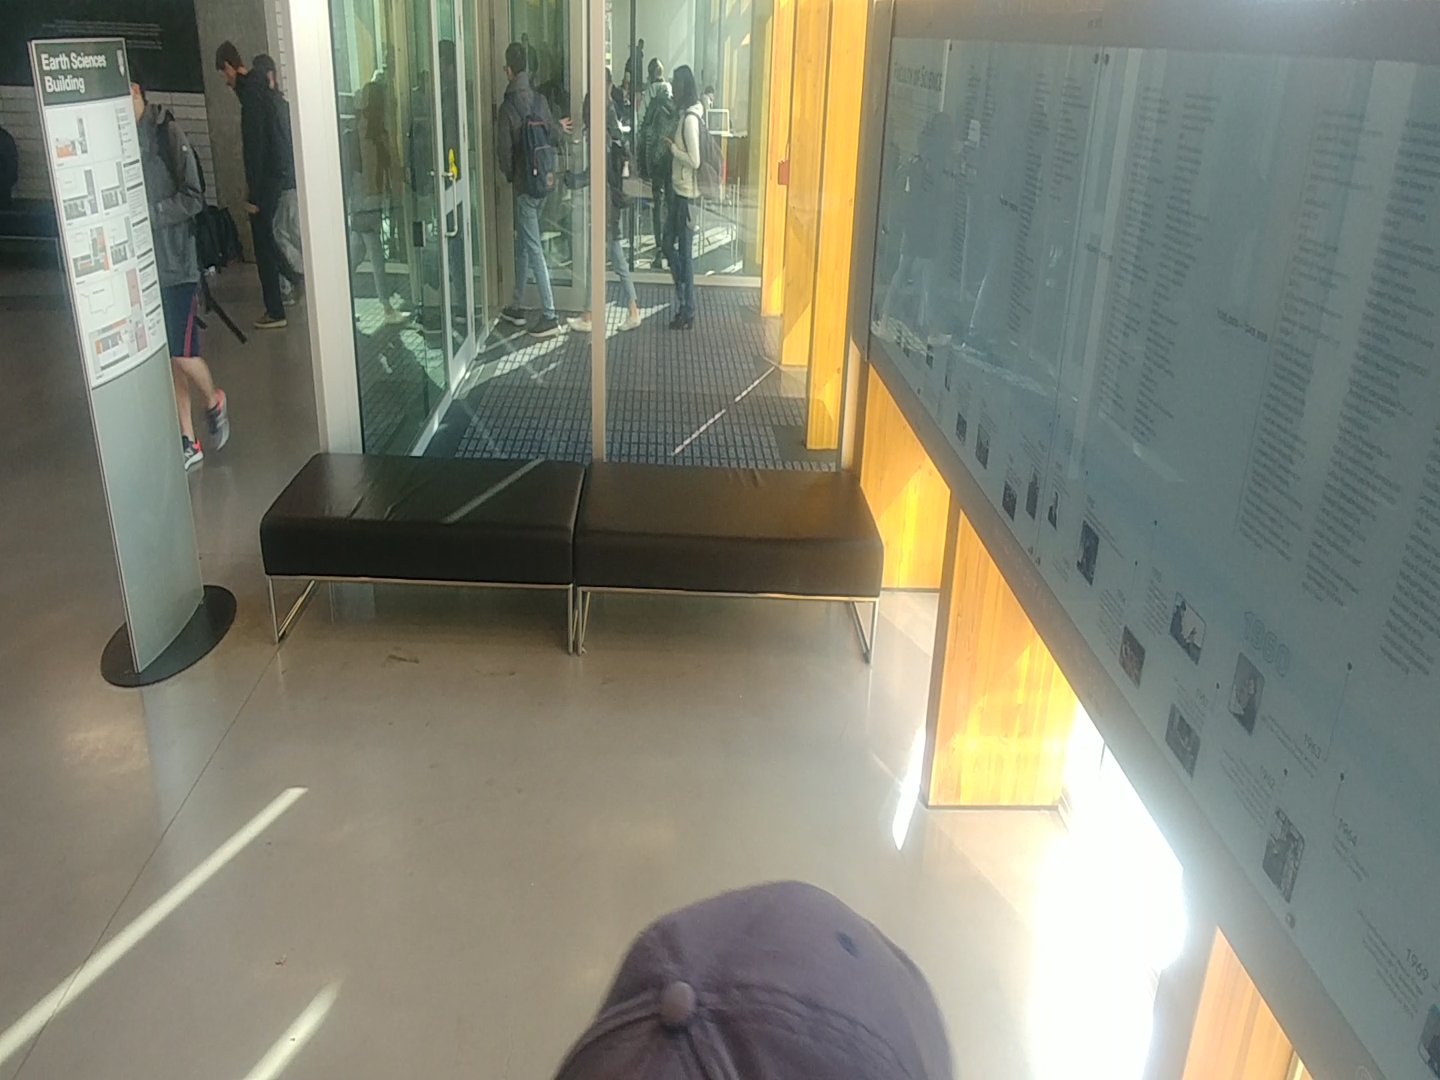face: (196, 29, 260, 92), (652, 63, 711, 121), (485, 32, 541, 92)
human: (199, 29, 309, 345), (486, 34, 586, 350), (646, 59, 732, 347)
